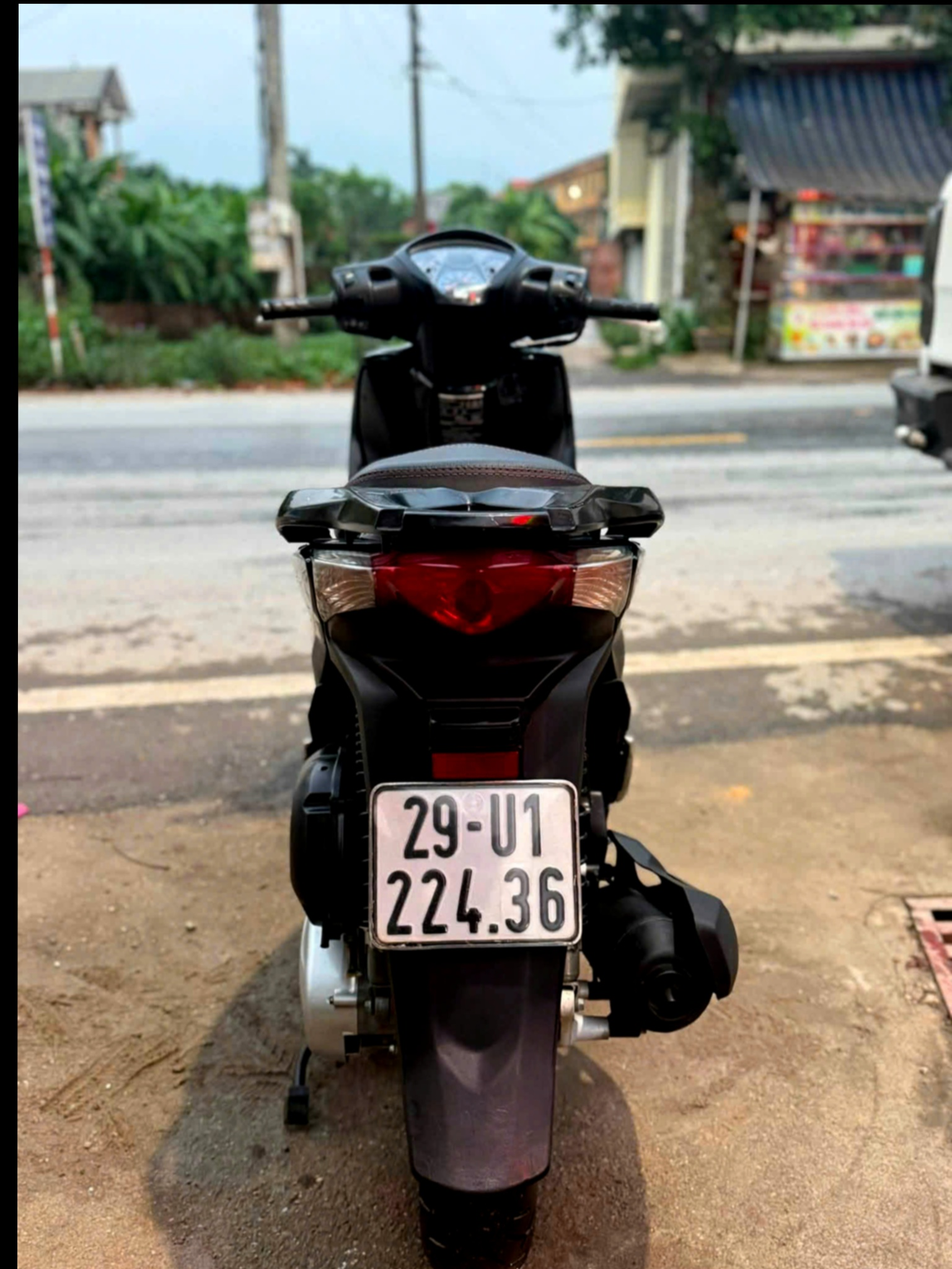Bien-so: (379, 775, 579, 948)
